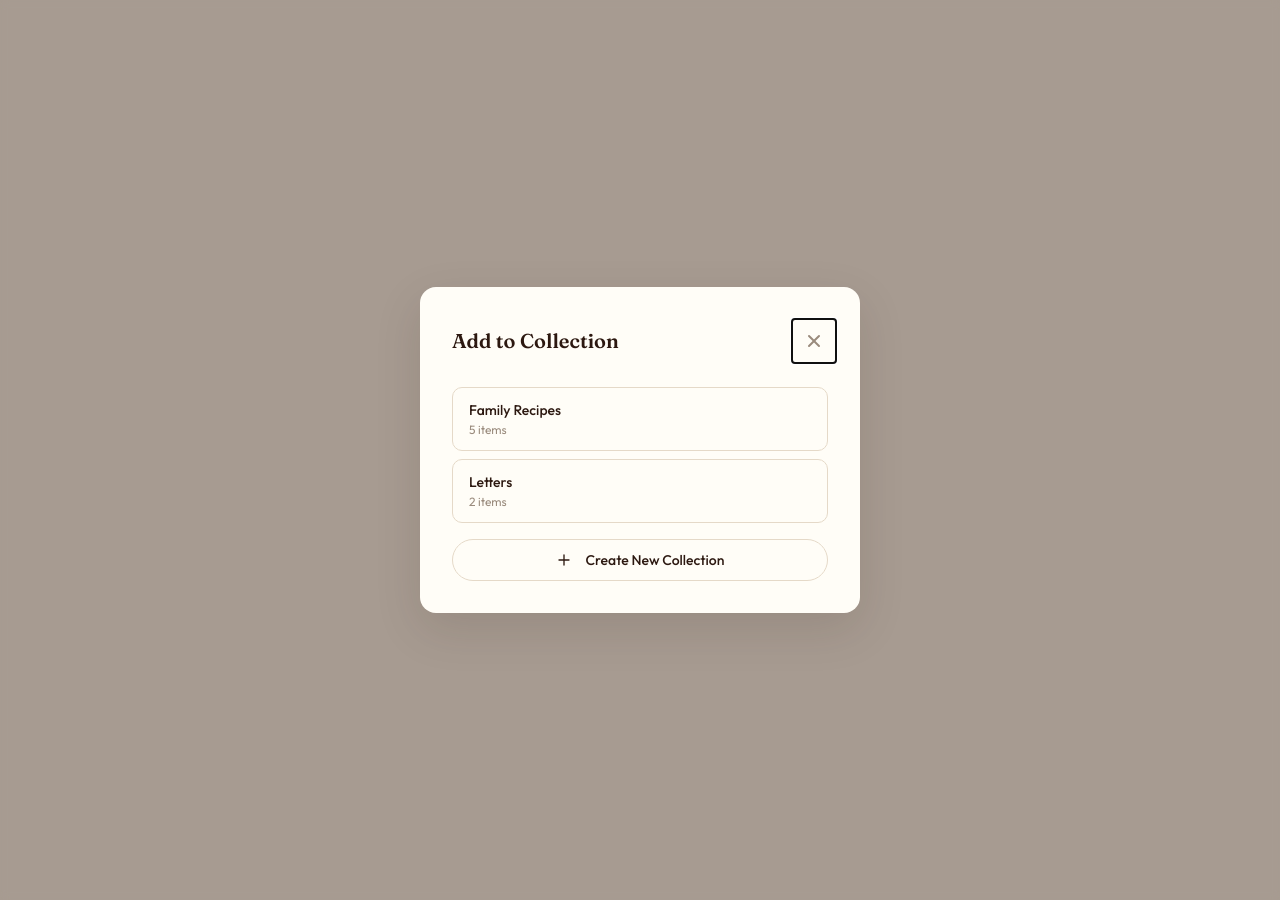
CollectionPickerModal › returns to pick mode when Back is clicked in create mode
Click the button "Create New Collection".
click(640, 560)  # box [452,539,828,581]
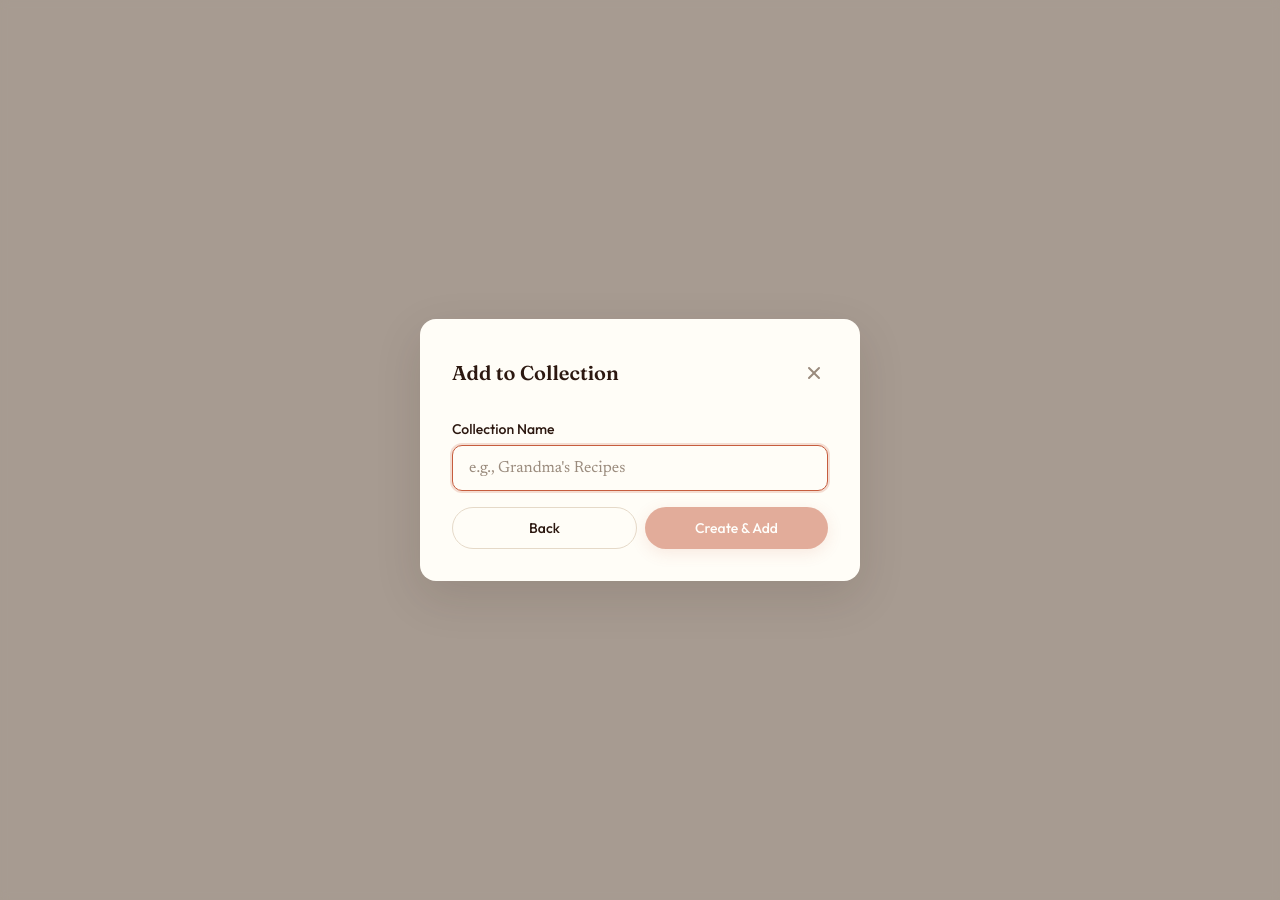
Check: the field labelled "Collection Name" is shown, box [452,445,828,491]
Click the button "Back".
click(544, 528)  # box [452,507,637,549]
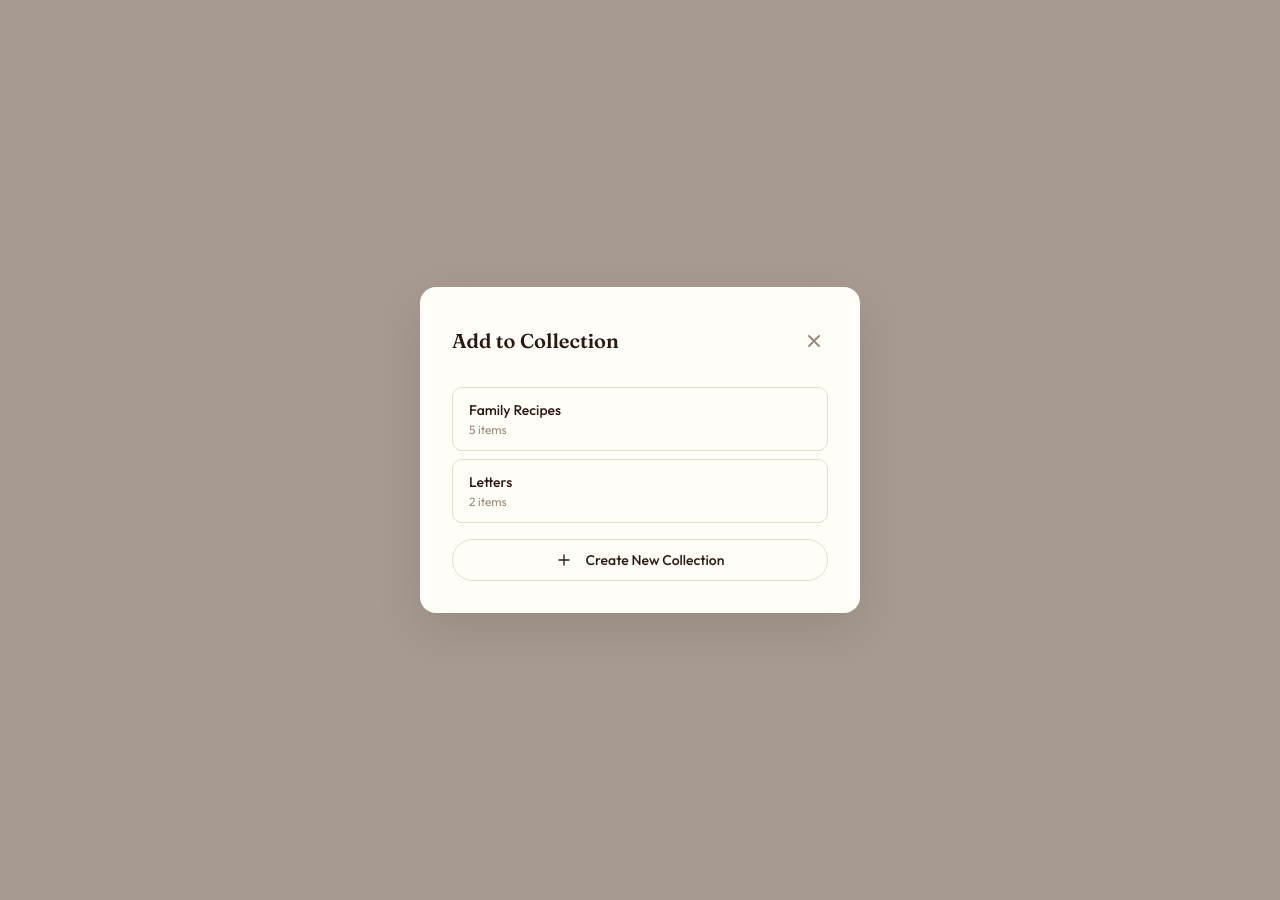
Check: the text "Family Recipes" is shown, box [469,400,561,420]
